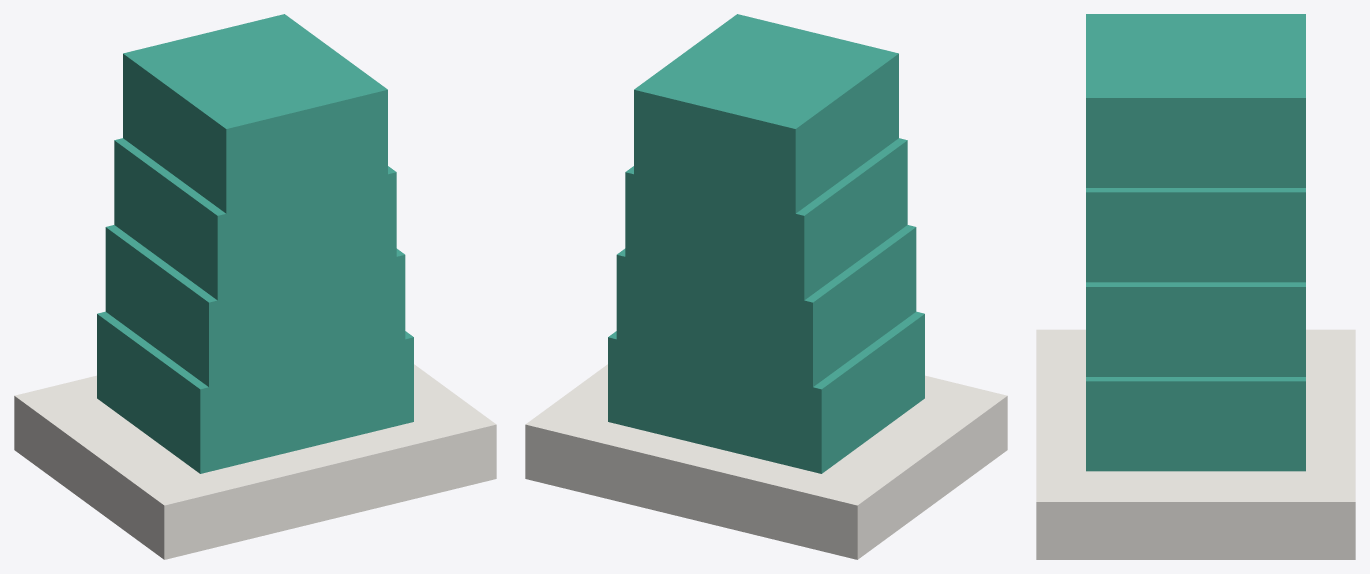
File: message_board-lv4.glb
The picture shows the model from 3 angles, left to right: view 1: azimuth 30°, elevation 25°; view 2: azimuth 150°, elevation 25°; view 3: azimuth 270°, elevation 25°; orthographic projection. The views are drawn at different scales.
Visible parts, largest first — view 1: Base, Level4, Level1, Level2, Level3; view 2: Base, Level4, Level1, Level2, Level3; view 3: Base, Level4, Level1, Level2, Level3.
Boxes of the visible parts, <box> form: Base: <box>14,364,496,559</box>; Level4: <box>123,14,387,213</box>; Level1: <box>97,311,413,473</box>; Level2: <box>105,225,405,387</box>; Level3: <box>114,138,396,300</box>; Base: <box>525,364,1007,559</box>; Level4: <box>634,14,898,213</box>; Level1: <box>608,311,924,473</box>; Level2: <box>616,225,916,387</box>; Level3: <box>625,138,907,300</box>; Base: <box>1036,329,1355,559</box>; Level4: <box>1086,14,1305,187</box>; Level1: <box>1086,377,1305,471</box>; Level2: <box>1086,282,1305,376</box>; Level3: <box>1086,188,1305,282</box>.
Bounding box in the file's own units: 1.15 × 1.3 × 0.9.
